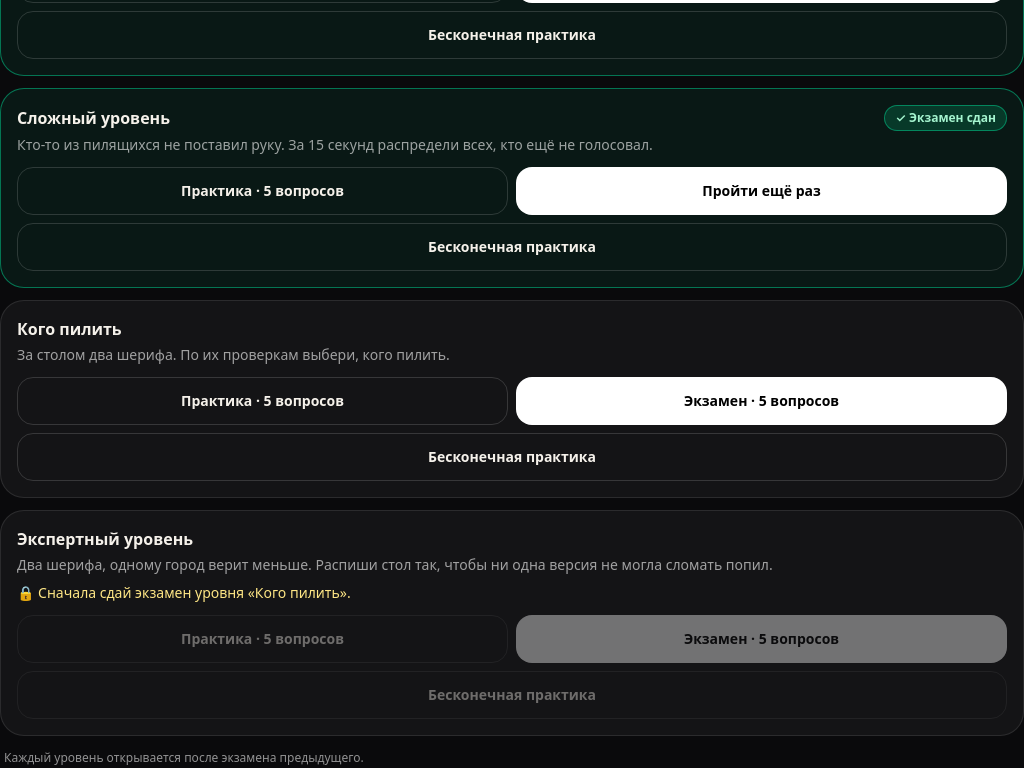
Scenario: three-way split trainer screen › «Кого пилить»: the town splits the doubted sheriff with the black checks
This screenshot has width=1024, height=768.
(page scrolled)
Click the 3rd button "Практика · 5 вопросов" at (262, 401), box [17,377,508,425]
(page scrolled)
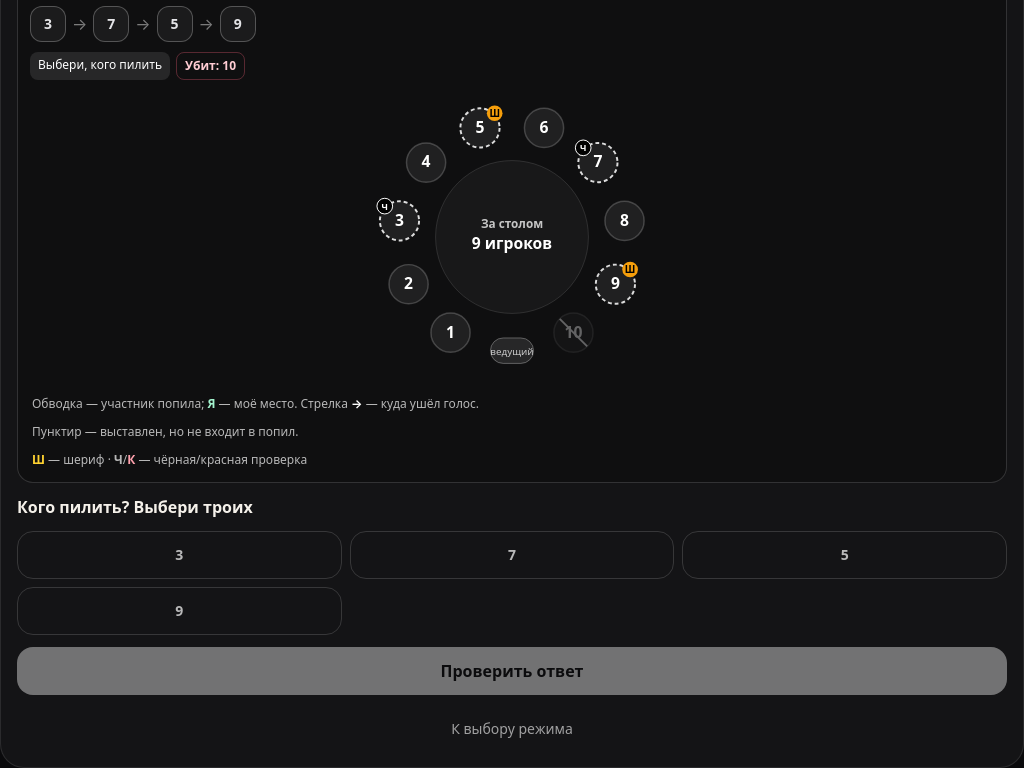
Click the button "3" at (179, 554), box [17,530,342,578]
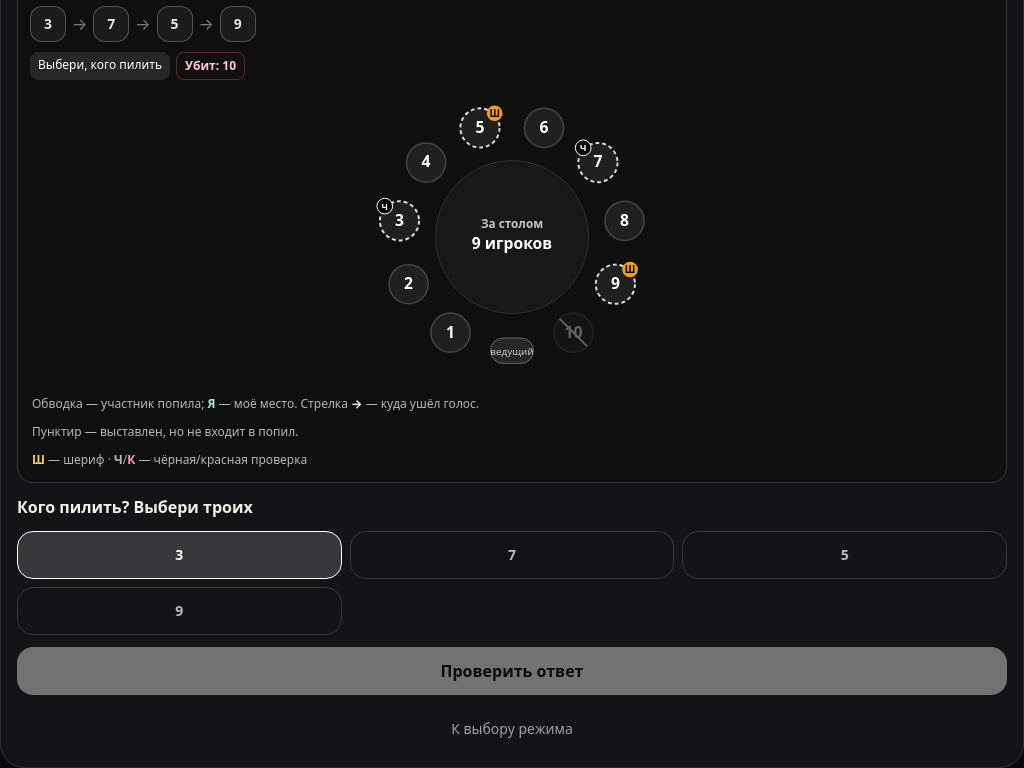
Click the button "7" at (512, 554), box [350,530,674,578]
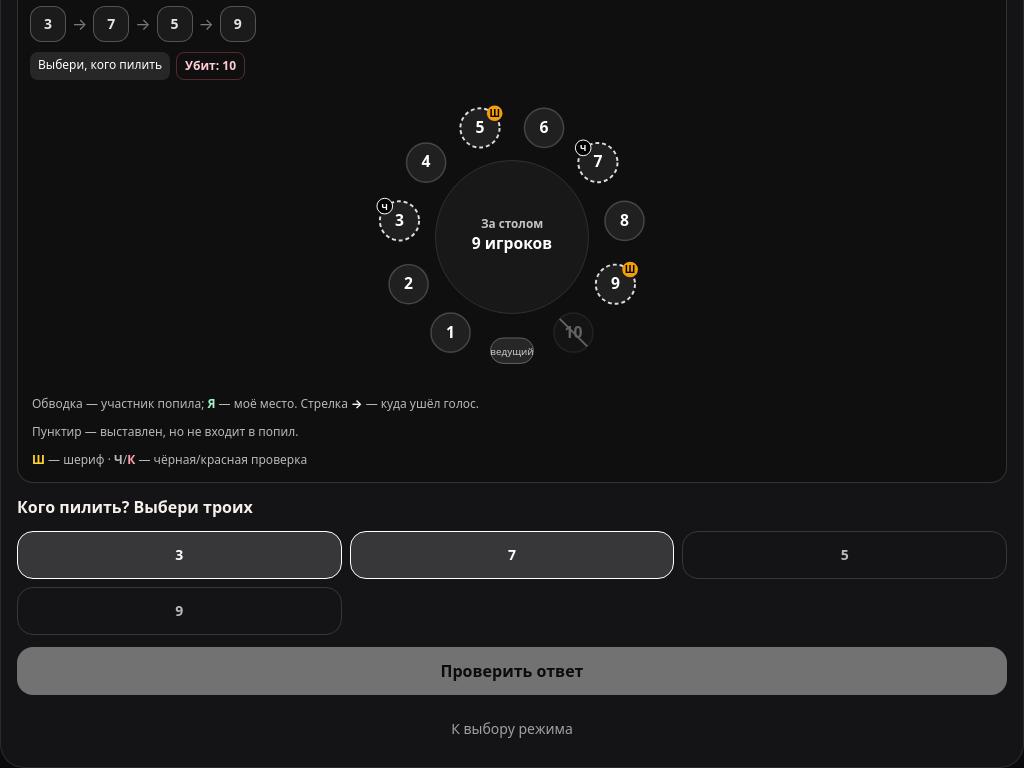
Click the button "9" at (179, 610), box [17,586,342,634]
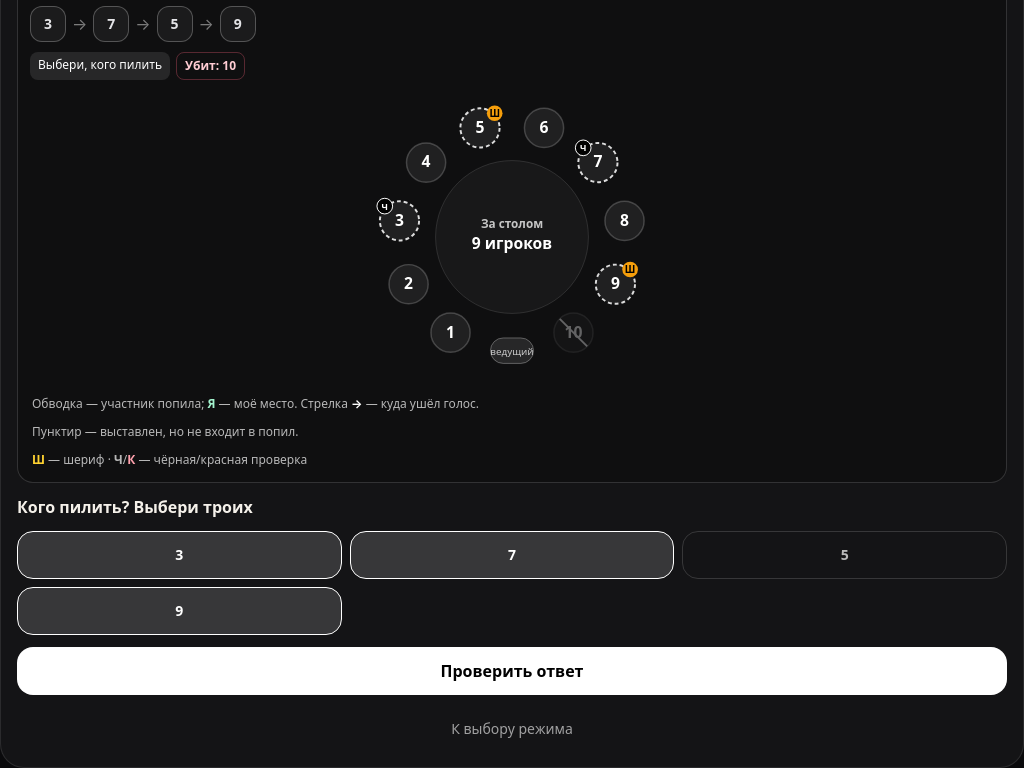
Click the button "Проверить ответ" at (512, 670), box [17,646,1007,694]
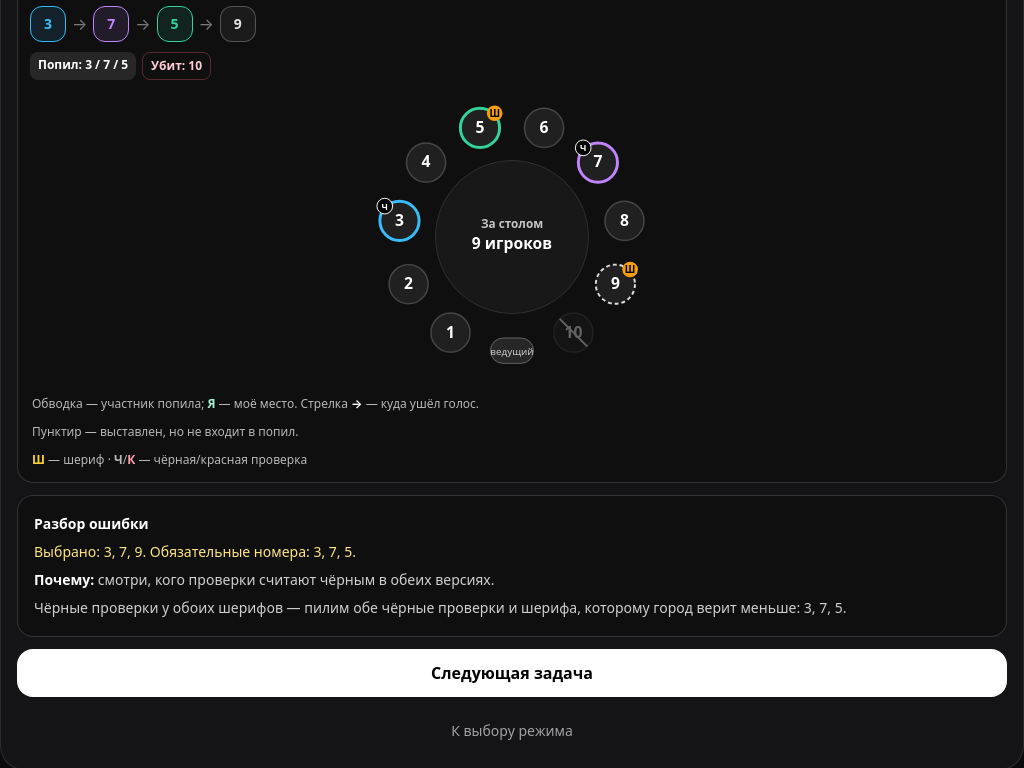
Expected: the message shows "Разбор ошибки", [34,514,149,532]
Expected: the message shows "пилим обе чёрные проверки и шерифа, которому город верит меньше: 3, 7, 5", [34,598,846,616]
